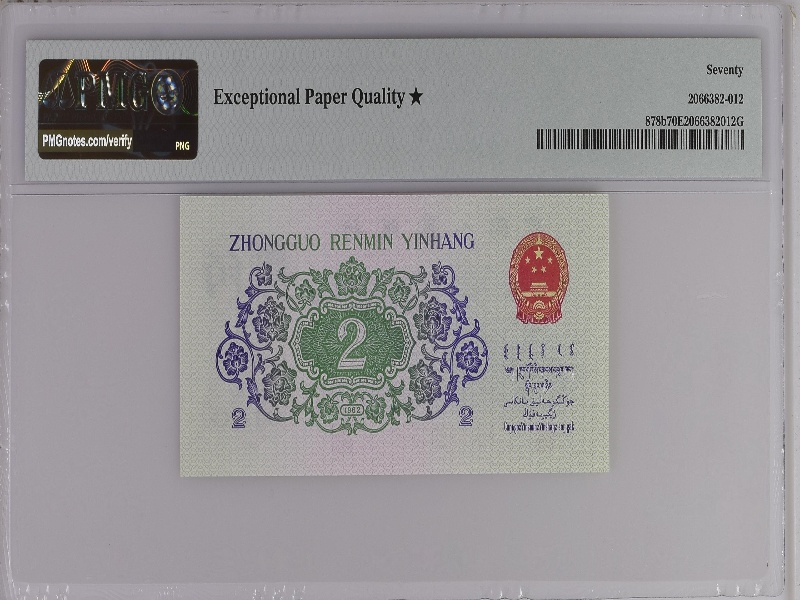papernote: (179, 194, 611, 473)
